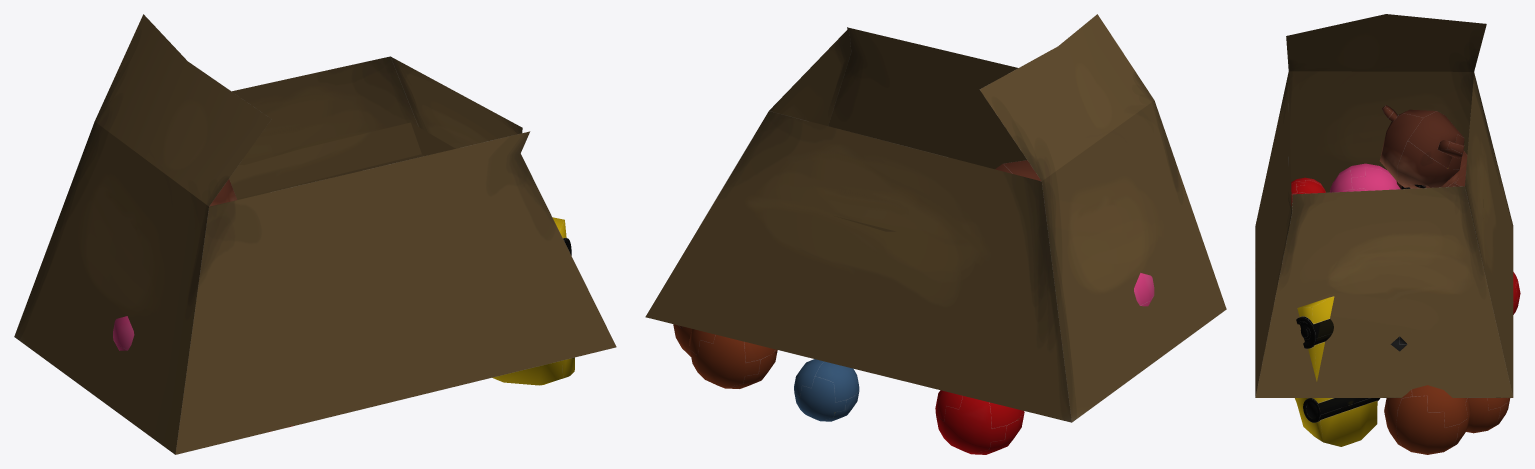
The model's file is BoxLevel.fbx.
3 renders of one model, left to right at view 1: azimuth 30°, elevation 25°; view 2: azimuth 150°, elevation 25°; view 3: azimuth 270°, elevation 25°, orthographic. The views are drawn at different scales.
Parts seen in each view (by area): view 1: Car, Car.001; view 2: Car; view 3: Car.
Boxes of the visible parts, x1,y1,x2,y2 form: Car: (14,14,616,454); Car.001: (229,122,455,198); Car: (645,14,1226,454); Car: (1255,14,1520,454).
Bounding box in the file's own units: 455 × 369 × 282.
